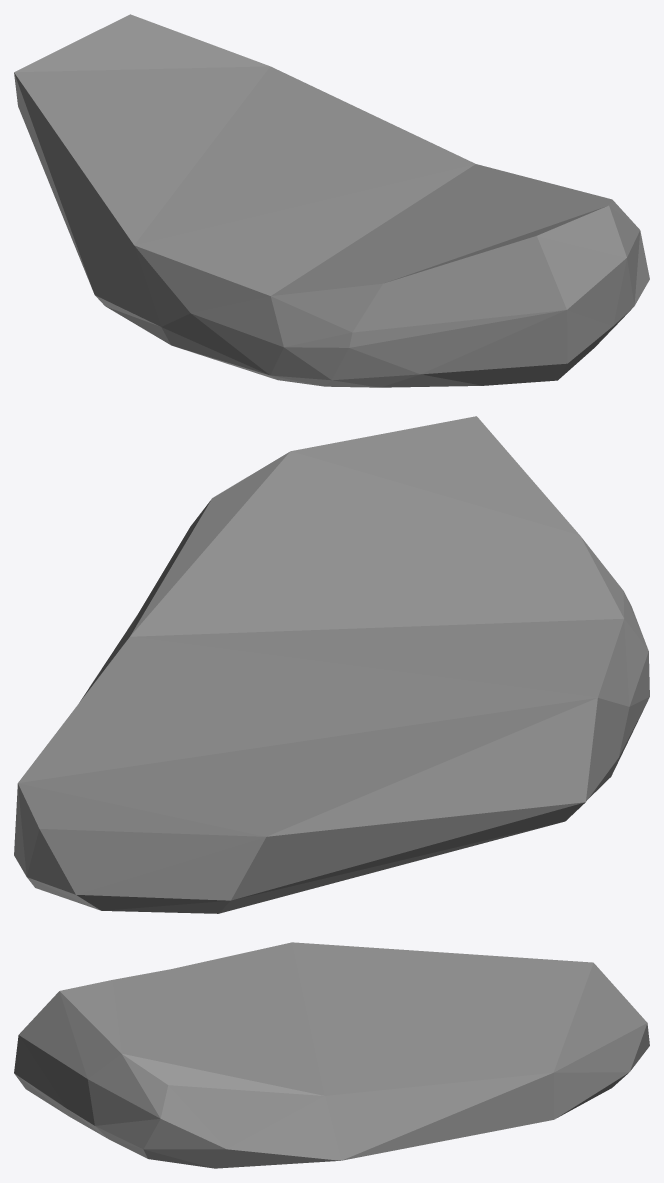
Rendered from EM_Stone9.fbx.
3 renders of one model, top to bottom at view 1: azimuth 30°, elevation 25°; view 2: azimuth 150°, elevation 25°; view 3: azimuth 270°, elevation 25°, orthographic. The views are drawn at different scales.
Parts seen in each view (by area): view 1: EM_Stone9_LOD0; view 2: EM_Stone9_LOD0; view 3: EM_Stone9_LOD0.
Part boxes in pixels (x1,y1,x2,y2): EM_Stone9_LOD0: (14, 14, 649, 387); EM_Stone9_LOD0: (14, 416, 649, 913); EM_Stone9_LOD0: (14, 942, 649, 1168).
Size of what is drawn, in the model's own units: 3.54 by 1.18 by 5.83.
